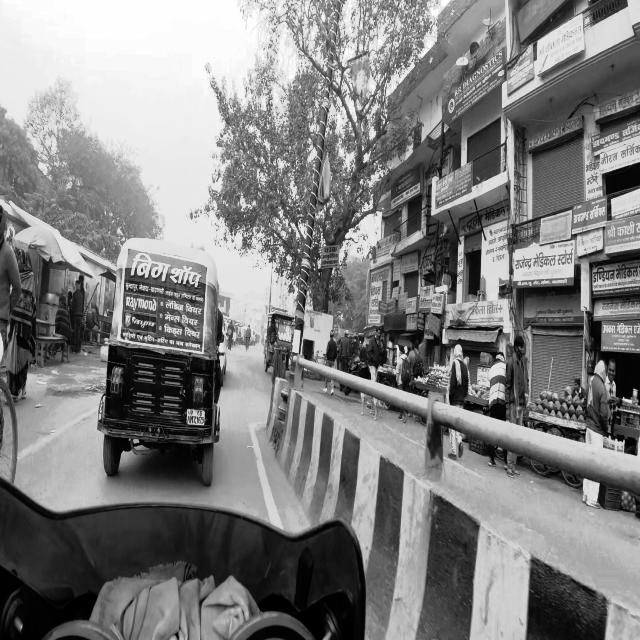Auto-Rickshaw: (102, 233, 230, 498)
Toto: (263, 306, 295, 373)
